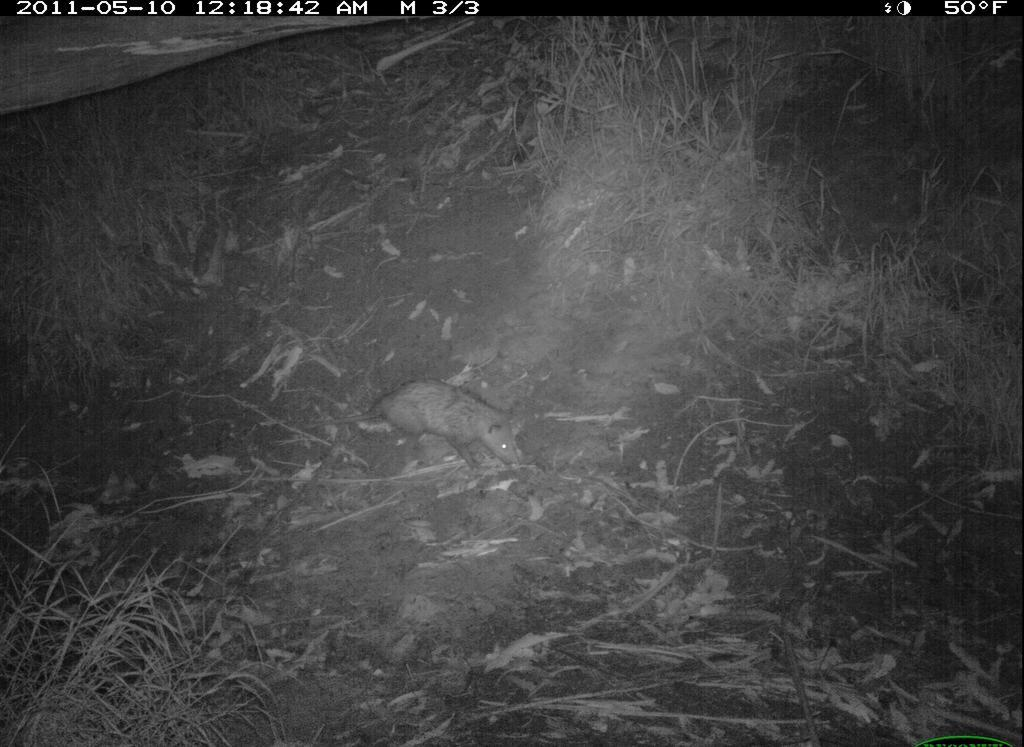opossum: (351, 367, 543, 520)
